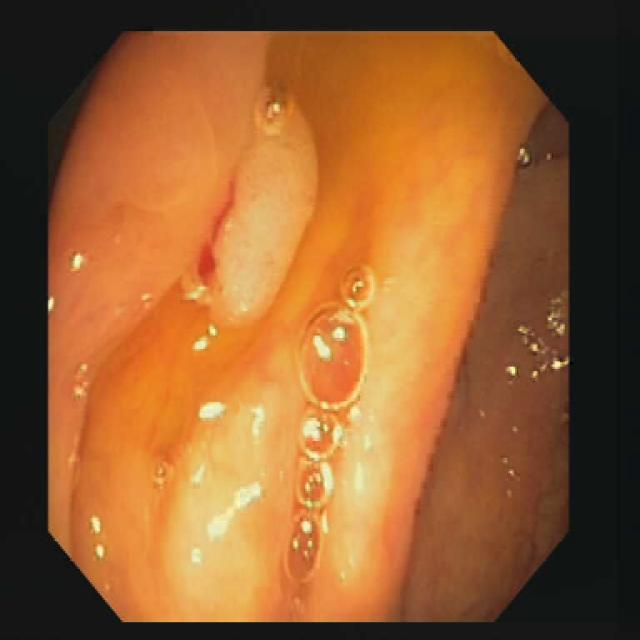tumor: (215, 102, 317, 318)
